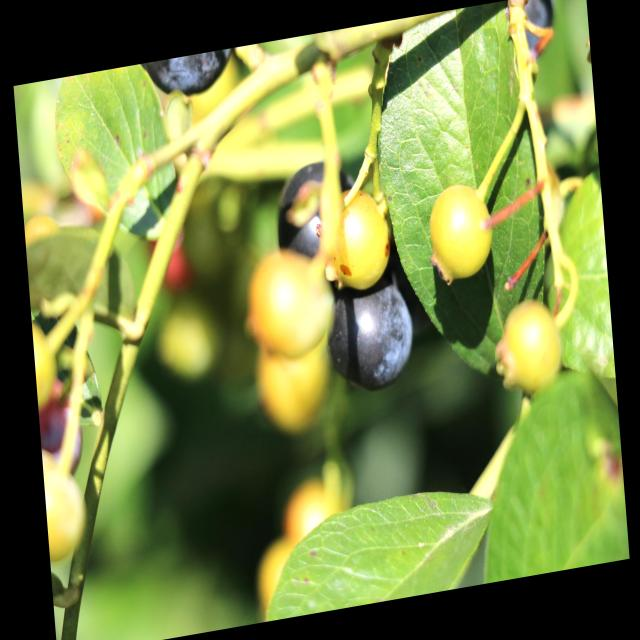blueberry: (321, 272, 418, 398), (267, 153, 360, 272), (135, 47, 239, 106)
blueberry-unripe: (242, 240, 330, 362), (254, 332, 336, 437), (322, 179, 393, 297), (424, 172, 494, 285), (498, 296, 560, 397)
